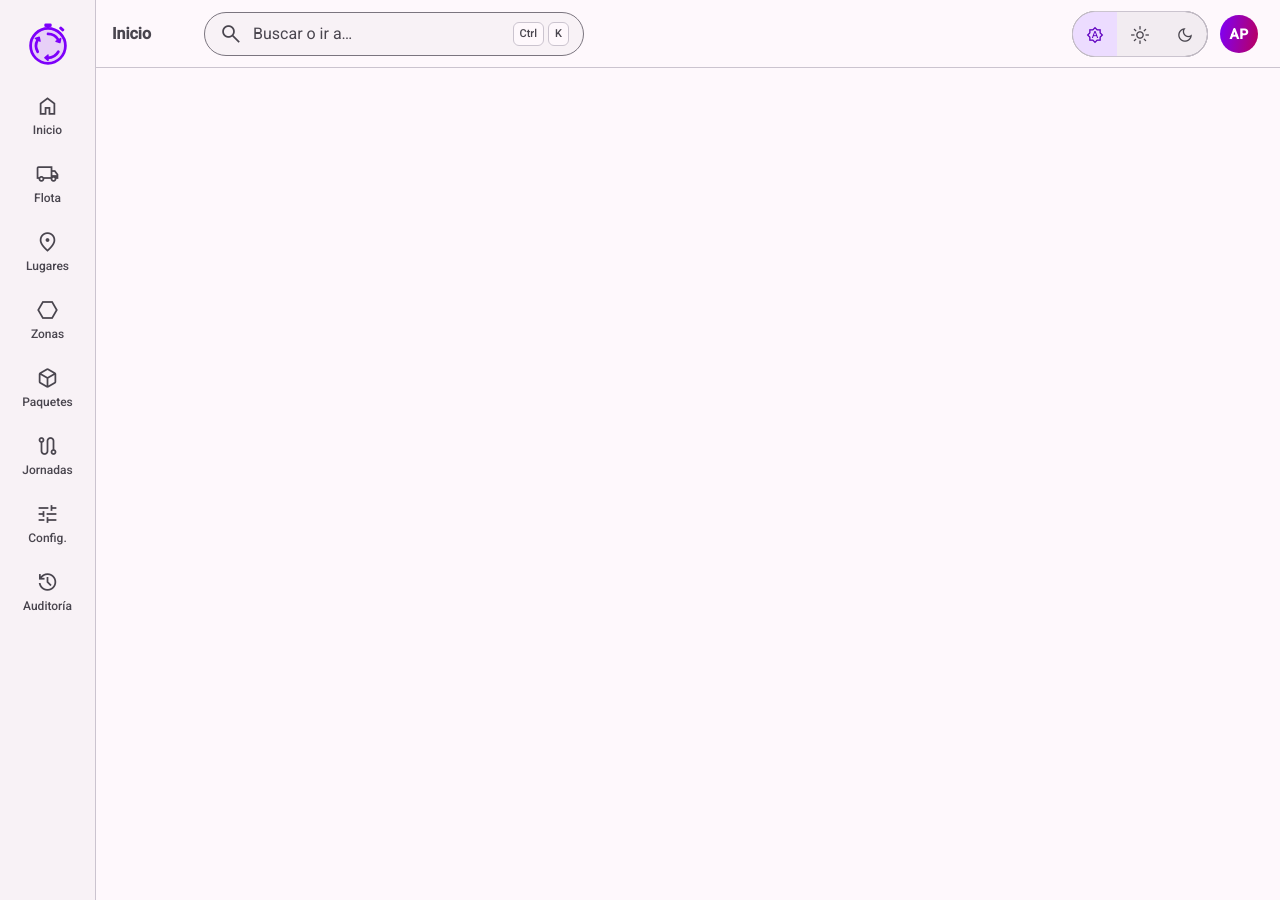
Test: ShellComponent › menú de usuario › muestra el nombre y el correo de la persona con sesión
Click the button with aria-label "Menú de usuario".
click(1242, 34)  # box [1220,12,1264,56]
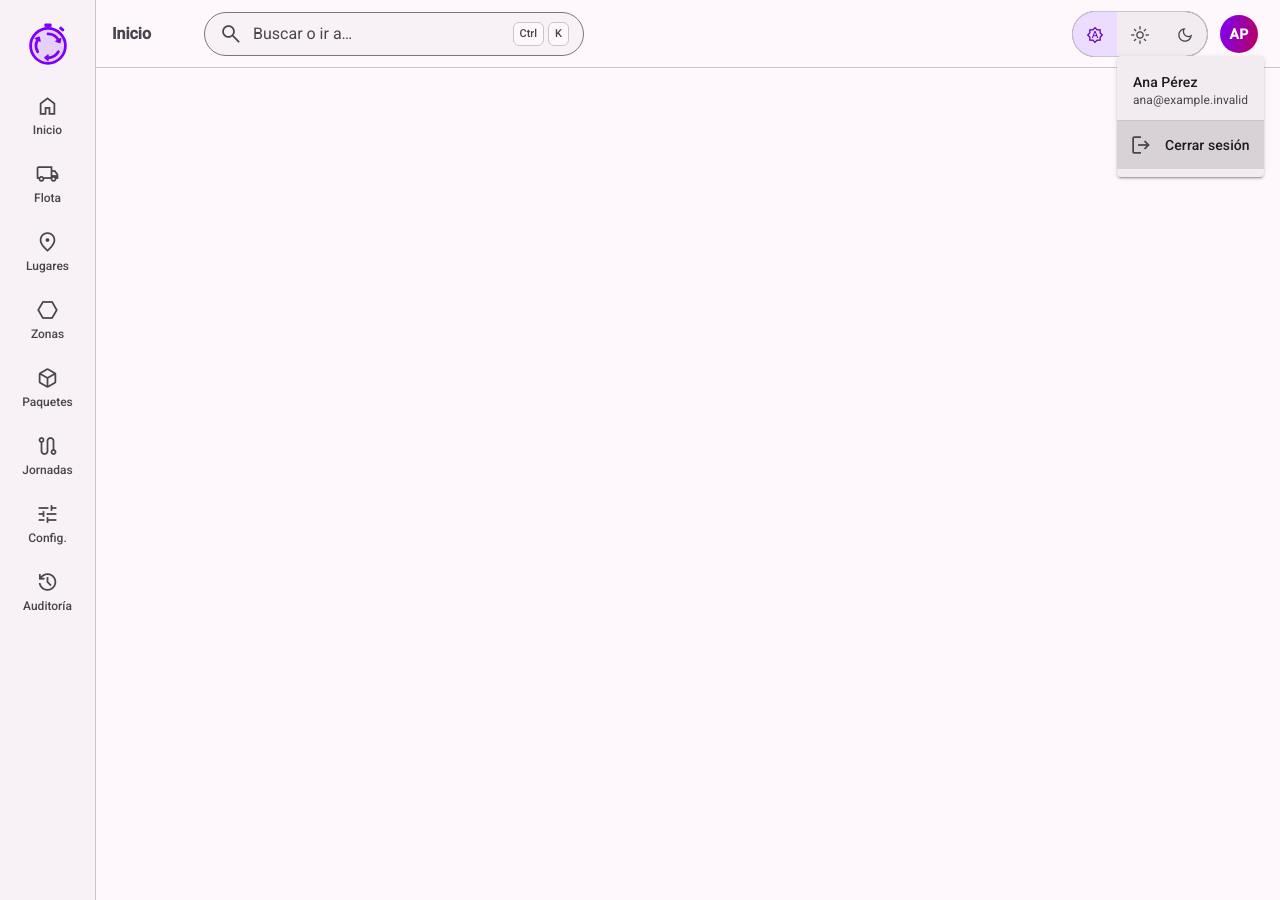
Expected: the text "Ana Pérez" is shown, [1133,74,1197,90]
Expected: the text "ana@example.invalid" is shown, [1133,92,1248,108]
